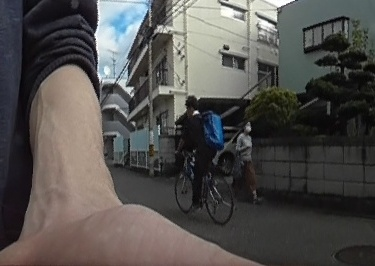person: (179, 92, 215, 204), (237, 117, 268, 203)
